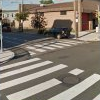crosswalk: (0, 57, 100, 100), (25, 39, 88, 55)
